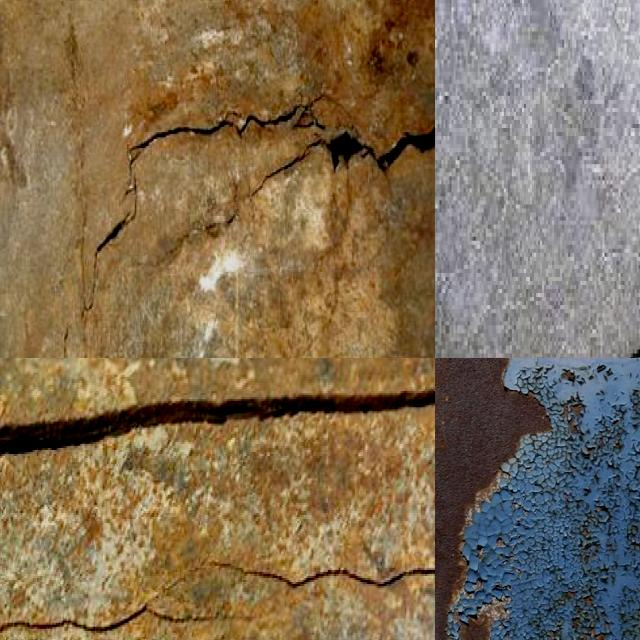Crack: (66, 78, 435, 349), (0, 386, 435, 452), (220, 564, 435, 588), (0, 600, 152, 633), (156, 610, 234, 623)
Uniform Corrosion: (435, 358, 549, 640), (435, 358, 548, 640)
